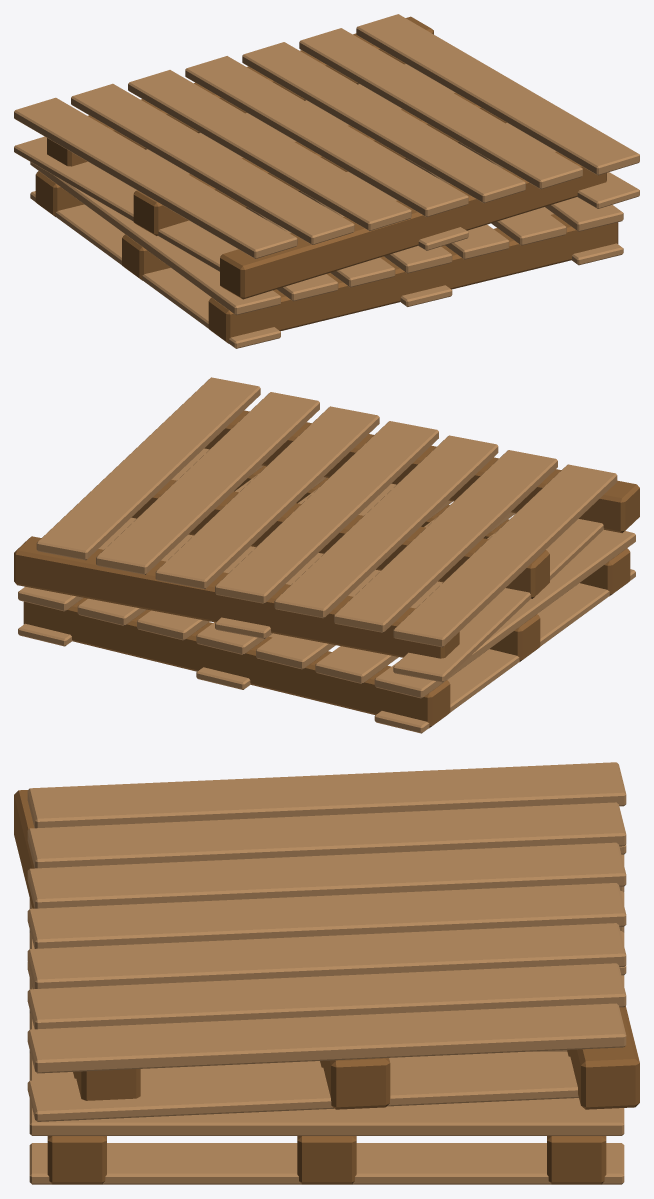
The model's file is pallets.glb.
The picture shows the model from 3 angles, top to bottom: view 1: azimuth 30°, elevation 25°; view 2: azimuth 150°, elevation 25°; view 3: azimuth 270°, elevation 25°; orthographic projection. The views are drawn at different scales.
Visible parts, largest first — view 1: pallets; view 2: pallets; view 3: pallets.
Part boxes in pixels (box(x1,y1,x2,y2)): pallets: box(14, 14, 639, 348); pallets: box(14, 377, 639, 733); pallets: box(14, 762, 639, 1184).
Bounding box in the file's own units: 1.19 × 0.255 × 1.05.
